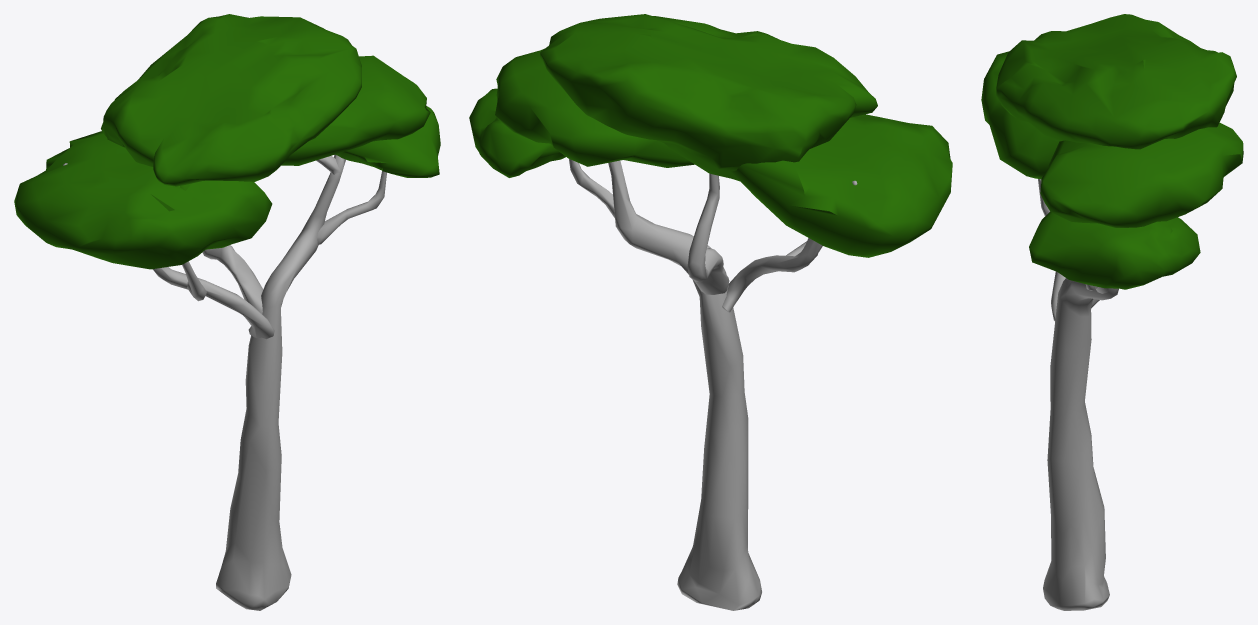
File: AfricaTree04.fbx
The picture shows the model from 3 angles, left to right: view 1: azimuth 30°, elevation 25°; view 2: azimuth 150°, elevation 25°; view 3: azimuth 270°, elevation 25°; orthographic projection. The views are drawn at different scales.
Visible parts, largest first — view 1: Leaves, Trunk; view 2: Leaves, Trunk; view 3: Leaves, Trunk.
Boxes of the visible parts, x1,y1,x2,y2 form: Leaves: (14,14,440,269); Trunk: (63,154,386,610); Leaves: (469,14,952,257); Trunk: (569,159,857,610); Leaves: (981,14,1243,289); Trunk: (1038,179,1118,610).
Bounding box in the file's own units: 145 × 178 × 74.9.
